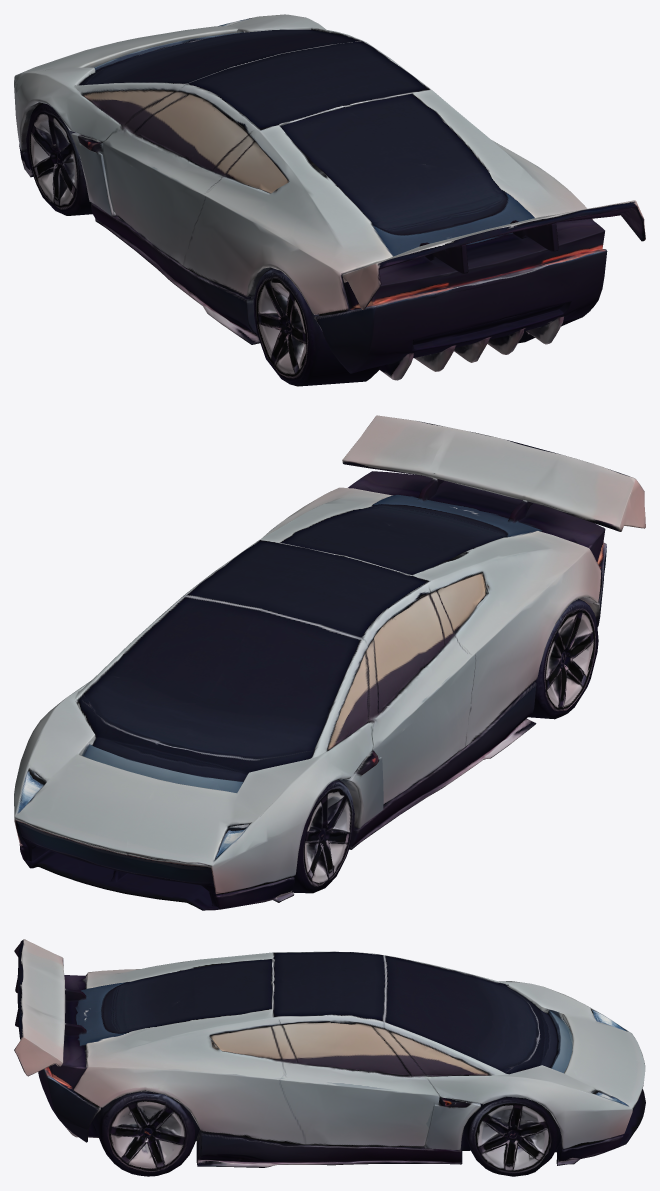
The model's file is tesla-affordable.glb.
The picture shows the model from 3 angles, top to bottom: view 1: azimuth 30°, elevation 25°; view 2: azimuth 150°, elevation 25°; view 3: azimuth 270°, elevation 25°; orthographic projection. The views are drawn at different scales.
Bounding box in the file's own units: 0.4159 × 0.2663 × 1.
1 material, 1 textured.
